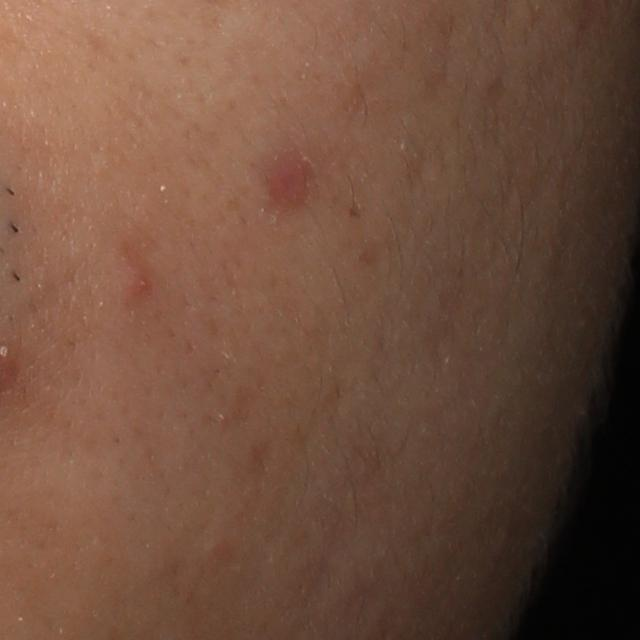papule: (271, 161, 312, 211)
